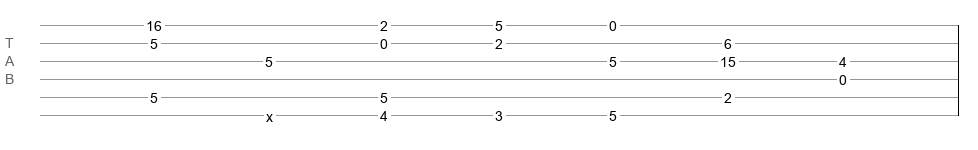0: (380, 36, 388, 46), (609, 18, 617, 28), (839, 72, 847, 82)
15: (720, 54, 736, 64)
16: (146, 18, 162, 28)
2: (380, 18, 388, 28), (495, 36, 503, 46), (724, 90, 732, 100)
3: (495, 108, 503, 118)
4: (380, 108, 388, 118), (839, 54, 847, 64)
5: (150, 36, 158, 46), (150, 90, 158, 100), (265, 54, 273, 64), (380, 90, 388, 100), (495, 18, 503, 28), (609, 54, 617, 64), (609, 108, 617, 118)
6: (724, 36, 732, 46)
x: (266, 109, 273, 117)
